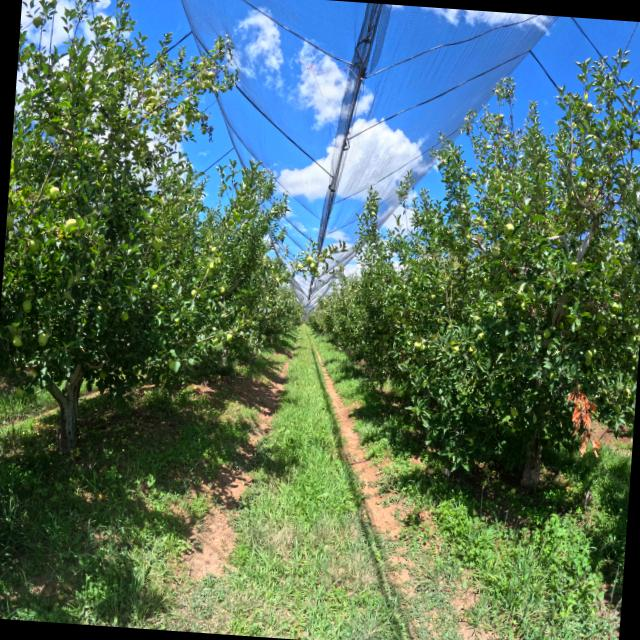-FireBlight-: (562, 390, 604, 460)
